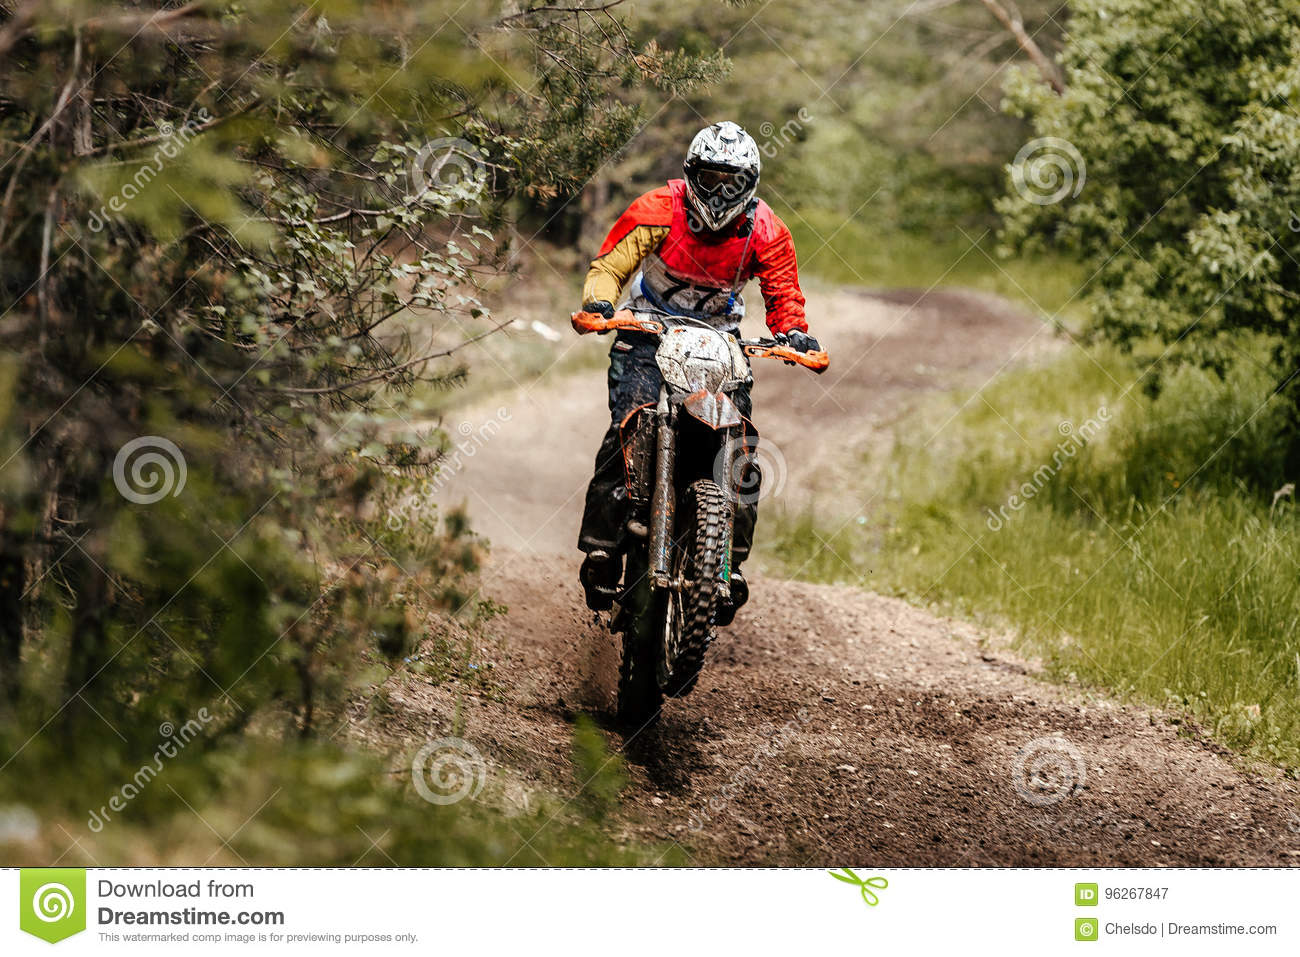helmet: (690, 121, 758, 238)
